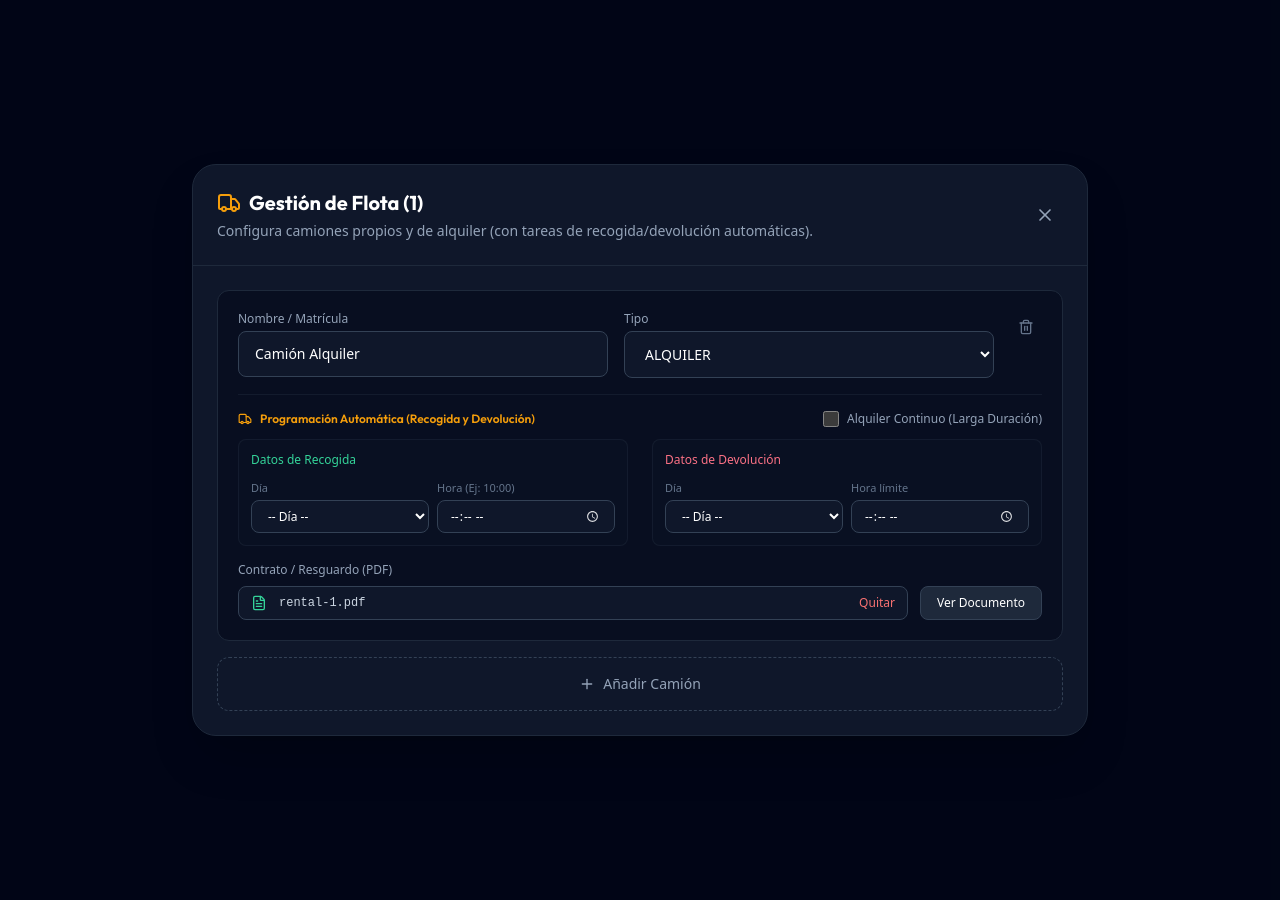
Test: FleetManagerModal — PDF del alquiler › si el archivo ya no está (los viejos del disco de Render), cierra la pestaña y lo dice
The image size is (1280, 900).
Click the button "Ver Documento" at (981, 603), box [920,586,1042,620]
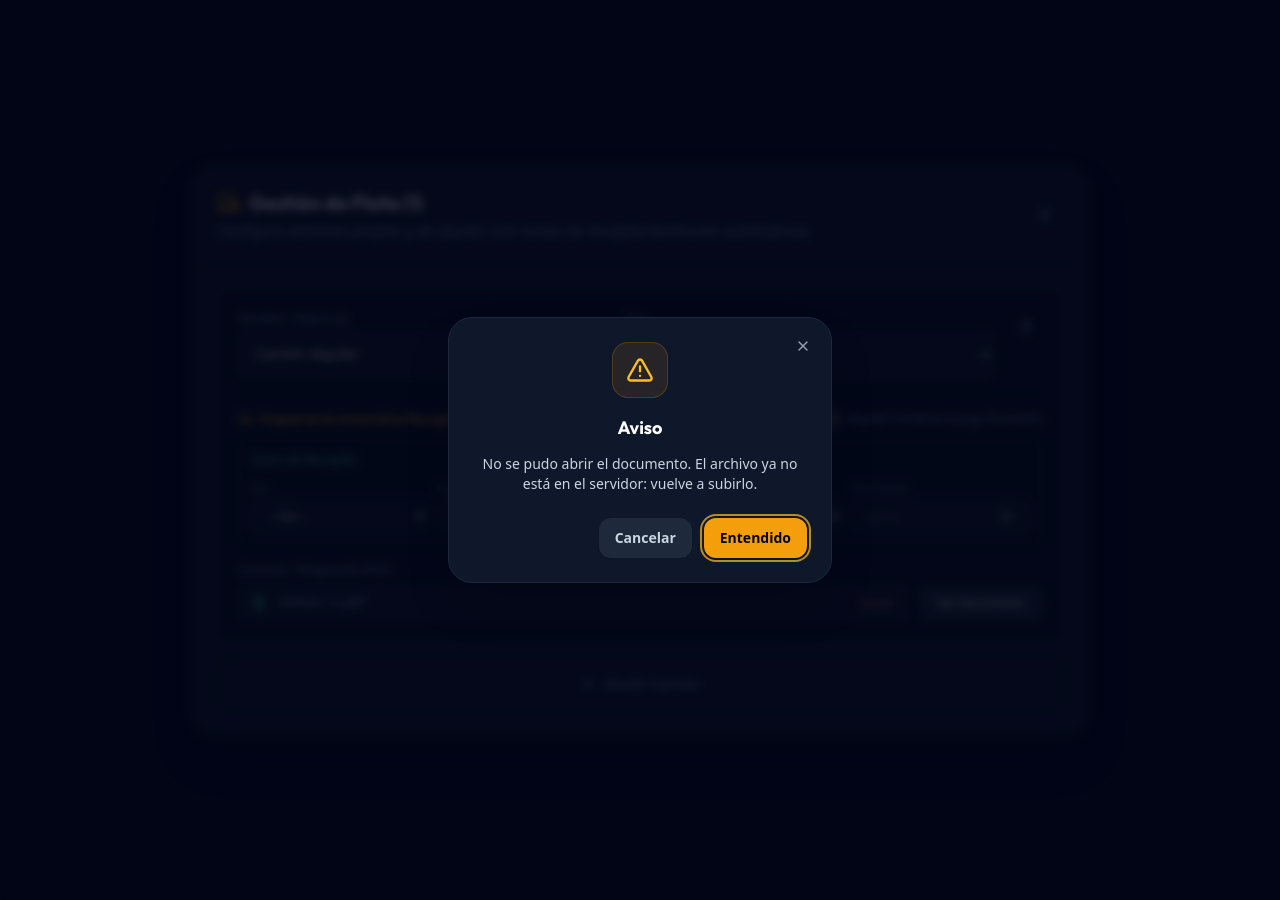
Now the text "vuelve a subirlo" is shown, box [483,454,797,493]
